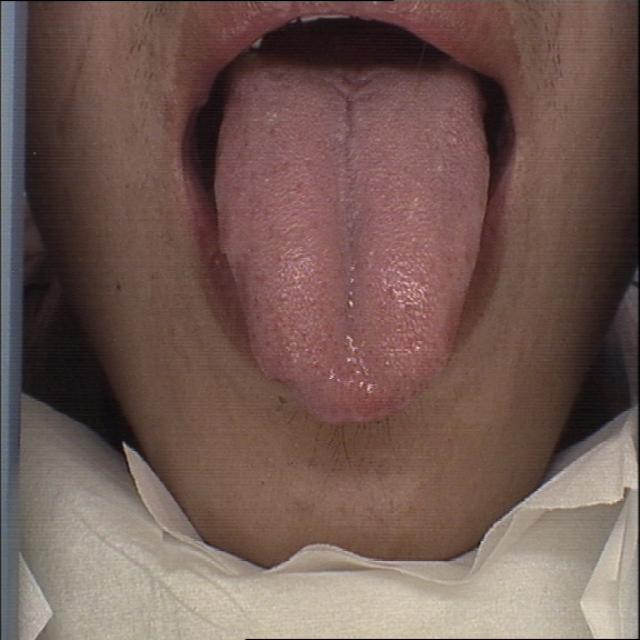tongue: (212, 59, 498, 429)
